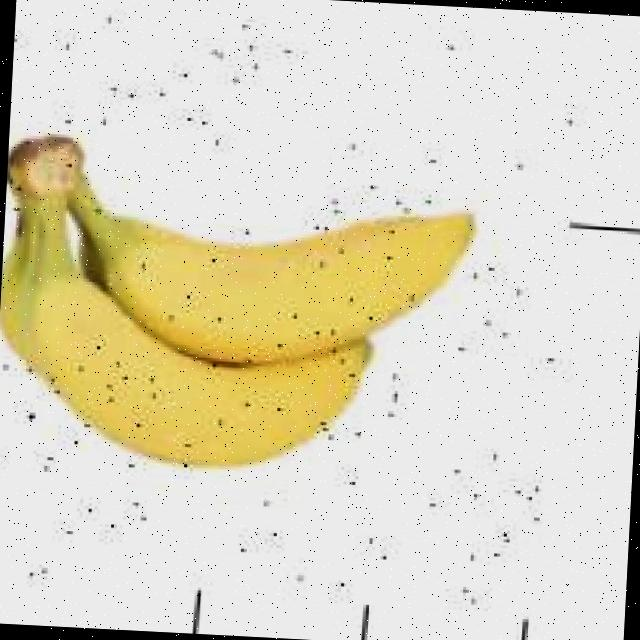banana: (0, 100, 505, 503)
